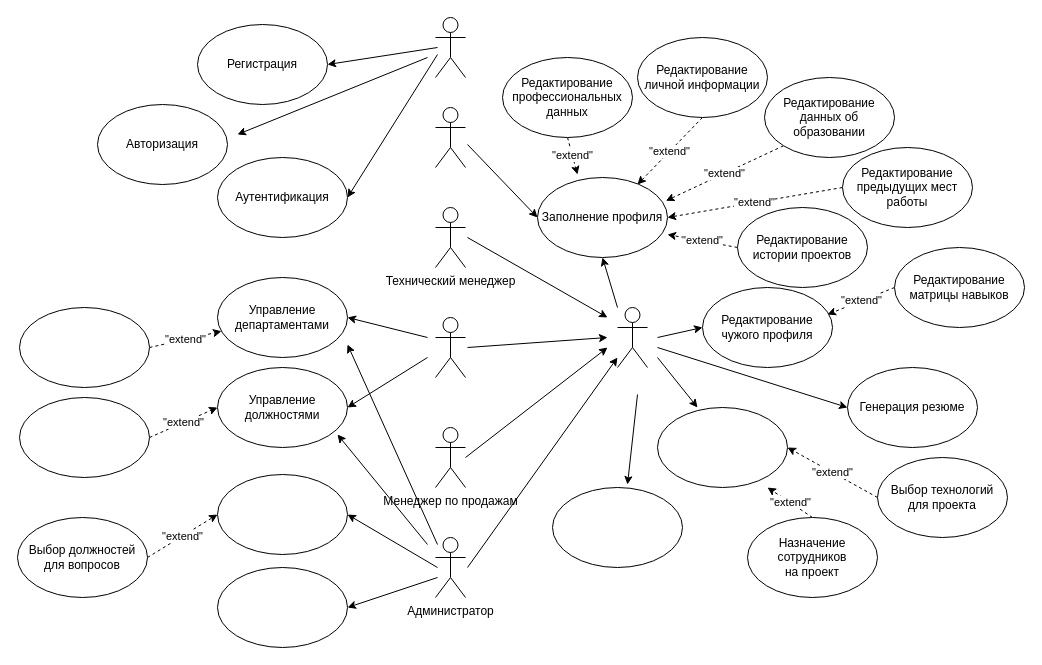
Image size: 1042x665. Some labels were removed from this diagram. Each missing label, with the centre of its shape:
"HR менеджер" goes at (450,347).
"Выбор технологий для должности" goes at (84,437).
"Гость" goes at (450,47).
"Менеджер" goes at (632,337).
"Пользователь" goes at (450,137).
"Приглашение пользователей" goes at (617,527).
"Управление вопросами для заполнения профиля" goes at (282,514).
"Управление менеджерами департаментов" goes at (84,347).
"Управление проектами" goes at (722,447).
"Управление уровнями доступа" goes at (282,607).
